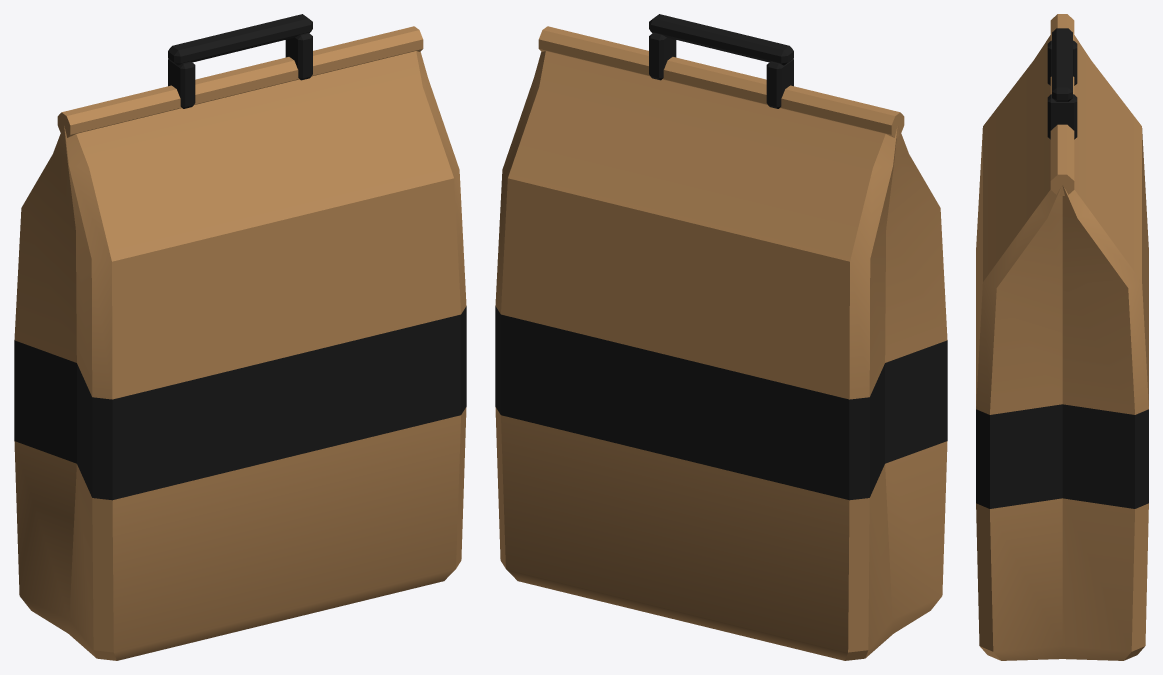
The model's file is bolsa_carbon.glb.
The picture shows the model from 3 angles, left to right: view 1: azimuth 30°, elevation 25°; view 2: azimuth 150°, elevation 25°; view 3: azimuth 270°, elevation 25°; orthographic projection. The views are drawn at different scales.
Visible parts, largest first — view 1: bolsa_carbon; view 2: bolsa_carbon; view 3: bolsa_carbon.
Boxes of the visible parts, x1,y1,x2,y2 form: bolsa_carbon: [14, 14, 466, 660]; bolsa_carbon: [495, 14, 947, 660]; bolsa_carbon: [976, 14, 1148, 660].
Size of the model in its own units: 0.35 by 0.5 by 0.15.
